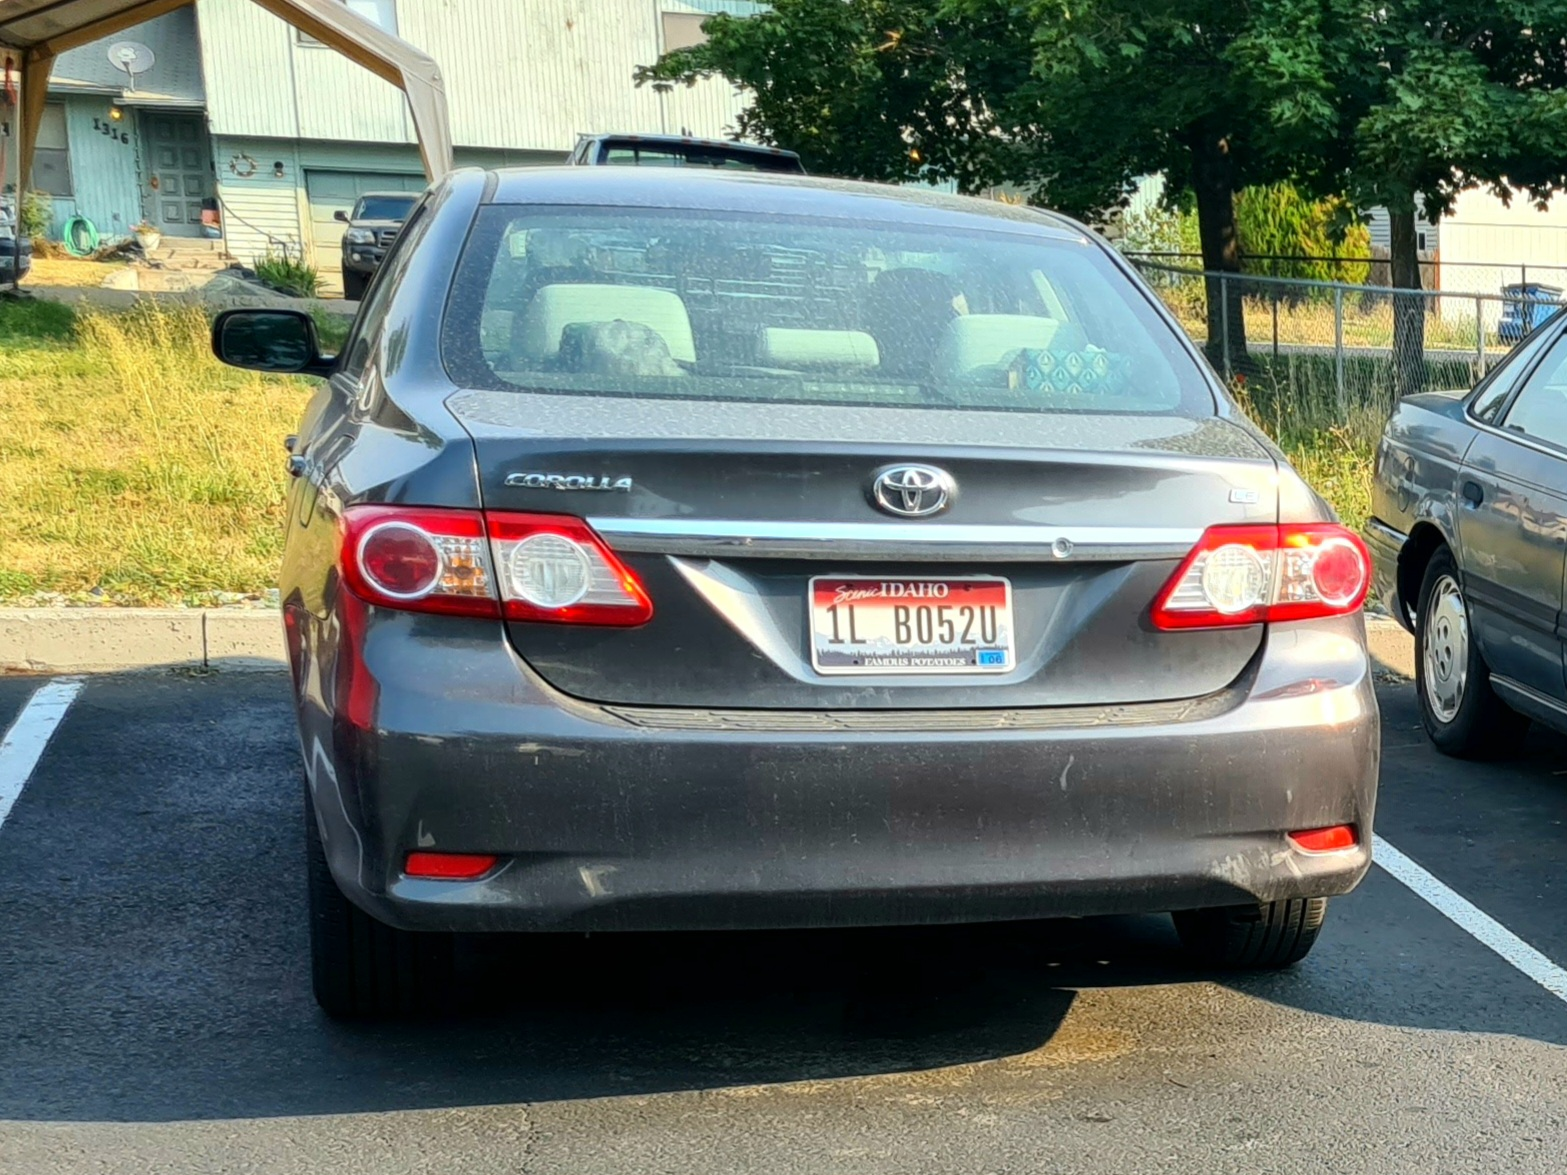license plate: (814, 570, 1009, 670)
